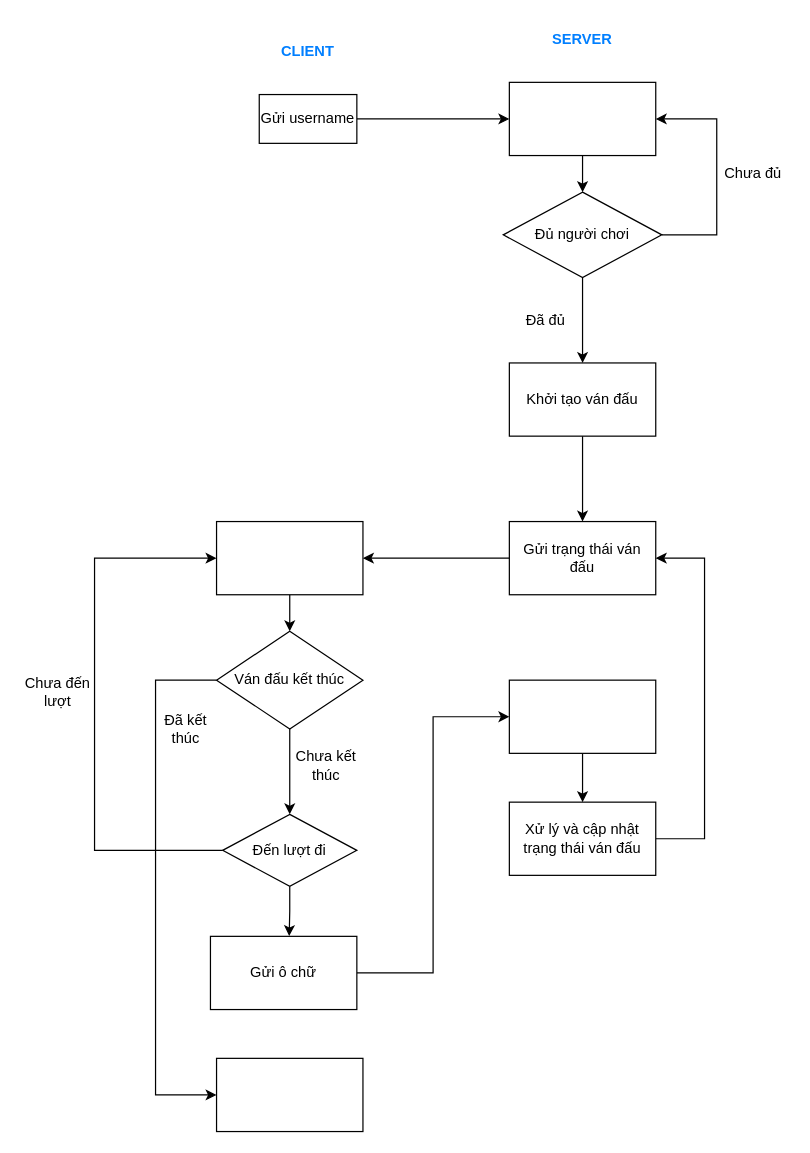
The diagram is 810 pixels wide and 1153 high, and some of its shapes have lost their labels. The centre of each missing label's shape, as x and y in pixels:
"Nhận username" goes at [582,118].
"Nhận và hiển thị trạng thái ván đấu" goes at [289,557].
"Nhận ô chữ" goes at [582,716].
"Thoát" goes at [289,1094].
